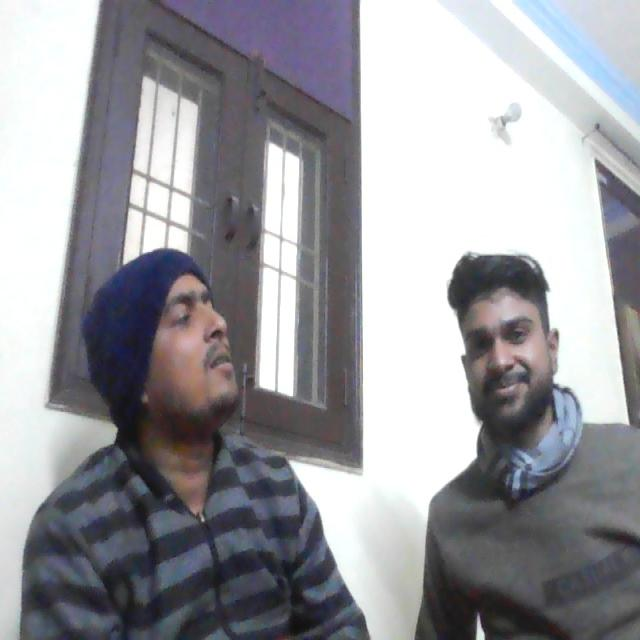real: (134, 211, 251, 432), (452, 239, 552, 428)
